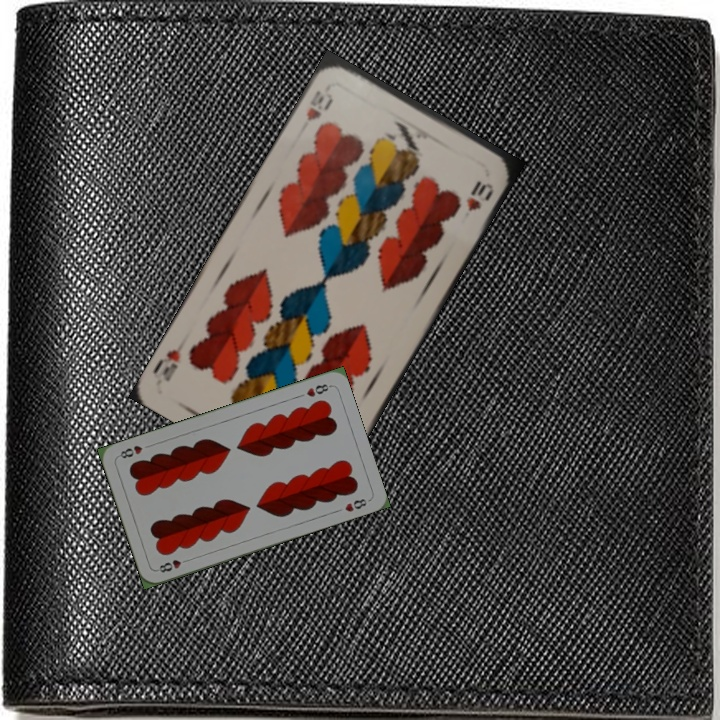H10: (302, 79, 337, 124)
H8: (153, 554, 193, 575), (302, 380, 333, 399)
